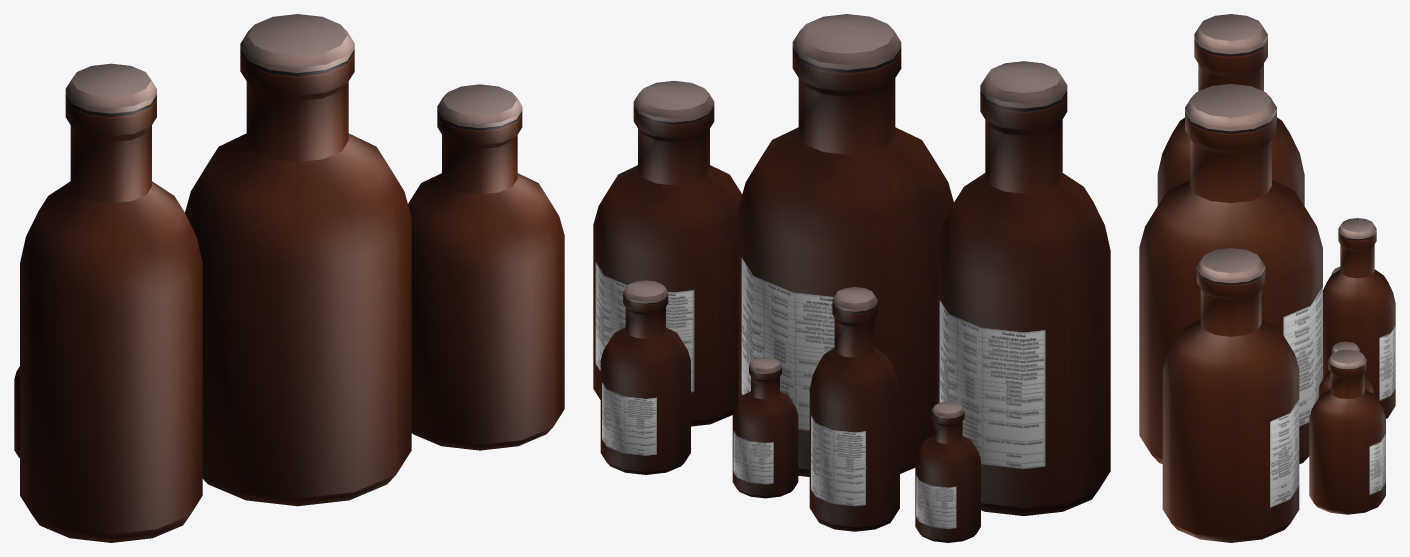
Rendered from Mfles.obj.
3 renders of one model, left to right at view 1: azimuth 30°, elevation 25°; view 2: azimuth 150°, elevation 25°; view 3: azimuth 270°, elevation 25°, orthographic. The views are drawn at different scales.
Visible parts, largest first — view 1: cylinder1_cylinder1_auv; view 2: cylinder1_cylinder1_auv; view 3: cylinder1_cylinder1_auv.
Boxes of the visible parts, left/top/right/bottom form: cylinder1_cylinder1_auv: left=14, top=14, right=564, bottom=542; cylinder1_cylinder1_auv: left=593, top=14, right=1110, bottom=542; cylinder1_cylinder1_auv: left=1139, top=14, right=1395, bottom=542.
Size of the model in its own units: 2.03 by 1.59 by 1.08.
1 material, 1 textured.
